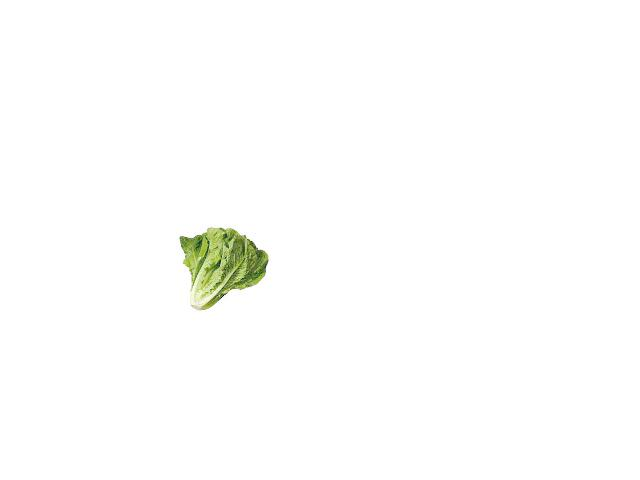lettuce: (177, 224, 269, 315)
